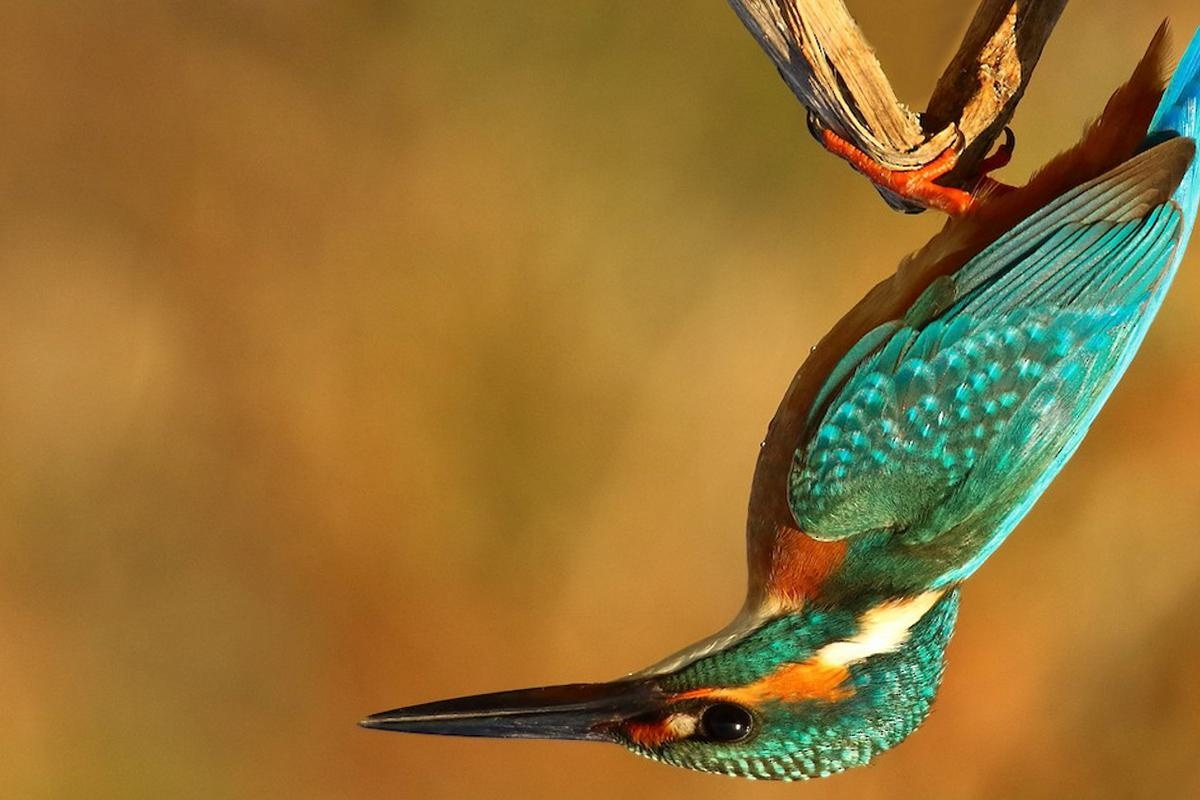kingfisher: (345, 53, 1200, 779)
